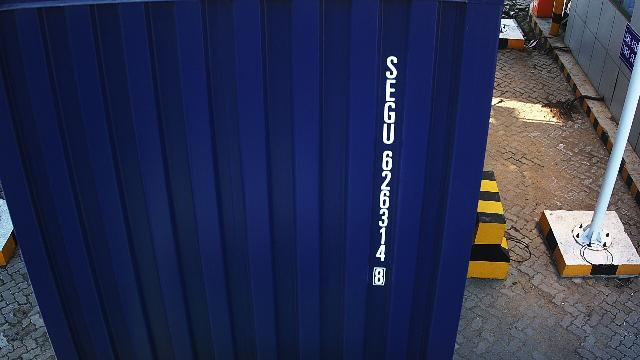1: (379, 228, 386, 244)
2: (381, 170, 392, 190)
3: (379, 209, 389, 227)
4: (376, 244, 386, 262)
6: (381, 150, 393, 170), (378, 190, 389, 208)
8: (373, 266, 385, 286)
E: (384, 79, 396, 101)
G: (384, 101, 396, 123)
S: (384, 56, 398, 78)
U: (382, 123, 396, 145)
